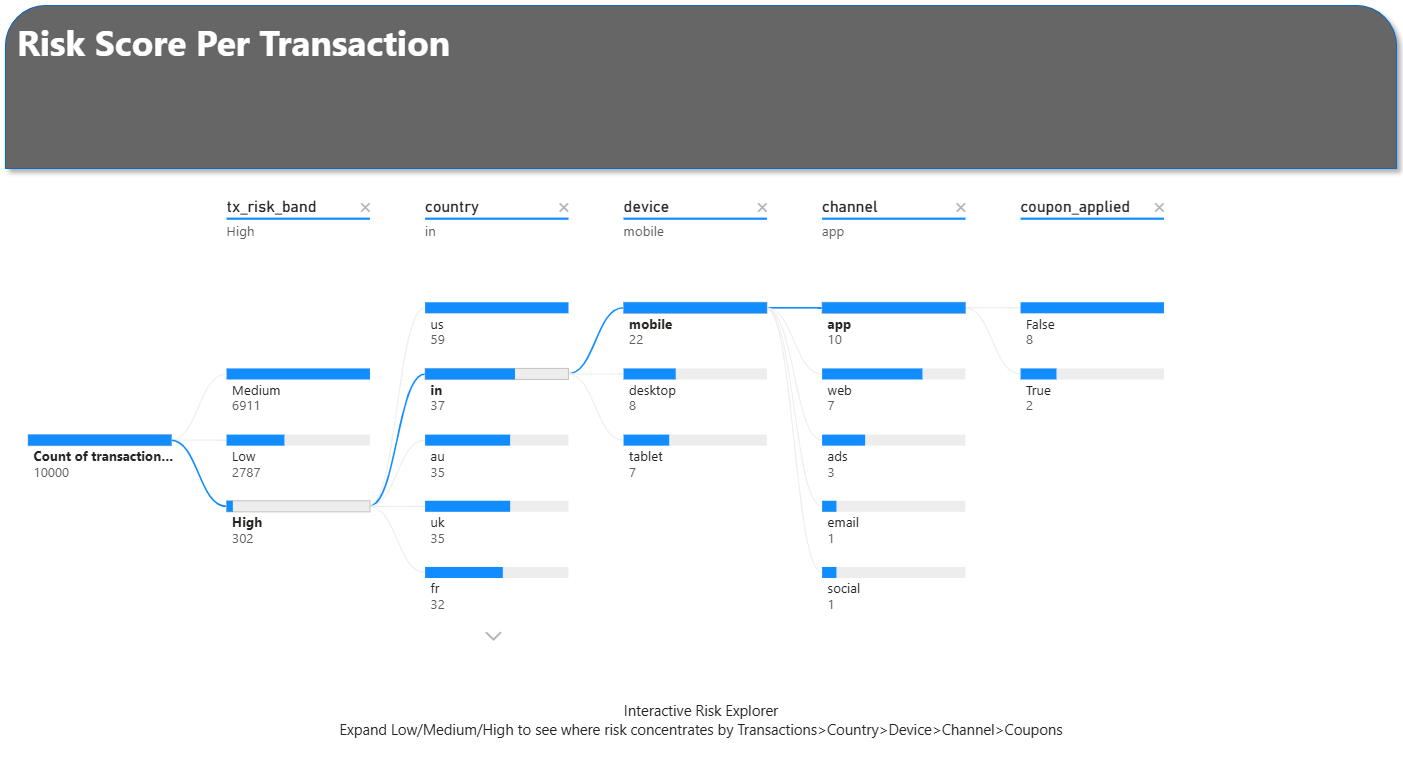

This screenshot's page, from the dashboard's own definition file:
{"tool":"powerbi","page":{"name":"Transaction Risk Score","canvas":[1280,720],"ordinal":1},"visuals":[{"type":"shape","box":[0,0,1280.4,166.9],"z":0},{"type":"decompositionTreeVisual","fields":{"Analyze":["CountNonNull(cleaned_data_with_riskscore.transaction_id)"],"ExplainBy":["cleaned_data_with_riskscore.tx_risk_band","cleaned_data_with_riskscore.country","cleaned_data_with_riskscore.device","cleaned_data_with_riskscore.channel","cleaned_data_with_riskscore.coupon_applied"]},"box":[0,166.9,1280.4,451.6],"z":1},{"type":"textbox","box":[0,634.8,1280.4,85.2],"z":2}]}

Visuals, with their boxes in screenshot pixels (x1, y1, x2, y2), scaled from the page's 1280x720 canvas onto the 1403x768 screenshot:
shape: bbox(0, 0, 1402, 178)
decompositionTreeVisual - CountNonNull(cleaned_data_with_riskscore.transaction_id) x cleaned_data_with_riskscore.tx_risk_band: bbox(0, 178, 1402, 660)
textbox: bbox(0, 677, 1402, 767)
